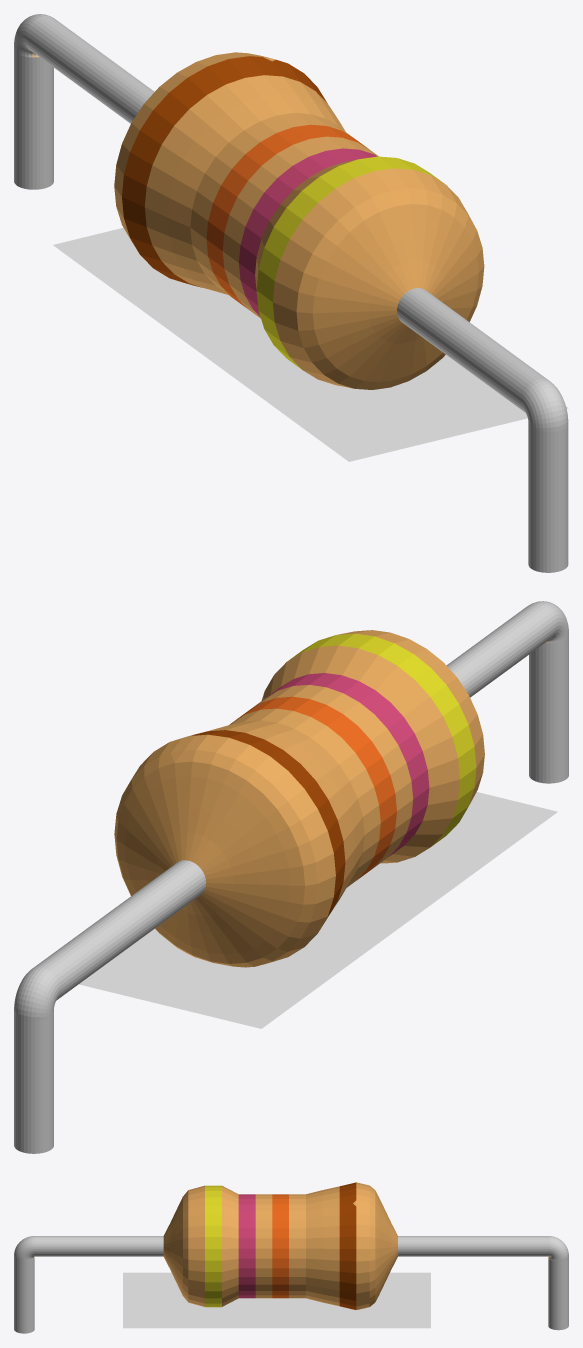
Rendered from R5_tan_6.gltf.
The picture shows the model from 3 angles, top to bottom: view 1: azimuth 30°, elevation 25°; view 2: azimuth 150°, elevation 25°; view 3: azimuth 270°, elevation 25°; orthographic projection. The views are drawn at different scales.
Parts seen in each view (by area): view 1: R5_tan_6, R5_tan_6_plane; view 2: R5_tan_6, R5_tan_6_plane; view 3: R5_tan_6, R5_tan_6_plane.
Boxes of the visible parts, <box> form: R5_tan_6: <box>14,14,568,572</box>; R5_tan_6_plane: <box>53,227,568,461</box>; R5_tan_6: <box>14,601,568,1153</box>; R5_tan_6_plane: <box>79,792,557,1028</box>; R5_tan_6: <box>14,1182,568,1333</box>; R5_tan_6_plane: <box>123,1272,430,1328</box>.
Size of the model in its own units: 0.0162 by 0.0189 by 0.0676.
